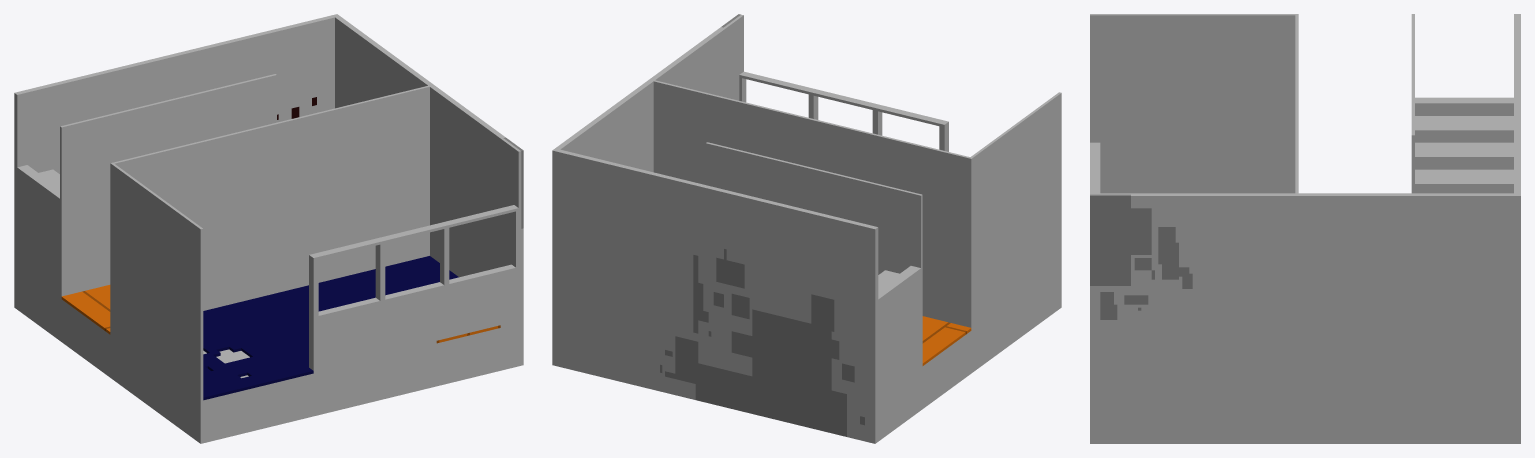
The model's file is 2x2 first 1(2)-2.obj.
3 views of the same model, side by side, from view 1: azimuth 30°, elevation 25°; view 2: azimuth 150°, elevation 25°; view 3: azimuth 270°, elevation 25° (orthographic). The views are drawn at different scales.
Visible parts, largest first — view 1: 2x2 first 1(2)-2; view 2: 2x2 first 1(2)-2; view 3: 2x2 first 1(2)-2.
Part boxes in pixels (x1,y1,x2,y2): 2x2 first 1(2)-2: (14, 14, 523, 443); 2x2 first 1(2)-2: (552, 14, 1061, 443); 2x2 first 1(2)-2: (1090, 14, 1520, 443).
Size of the model in its own units: 126 by 80 by 126.
Materials: 1 (1 with a texture image).
